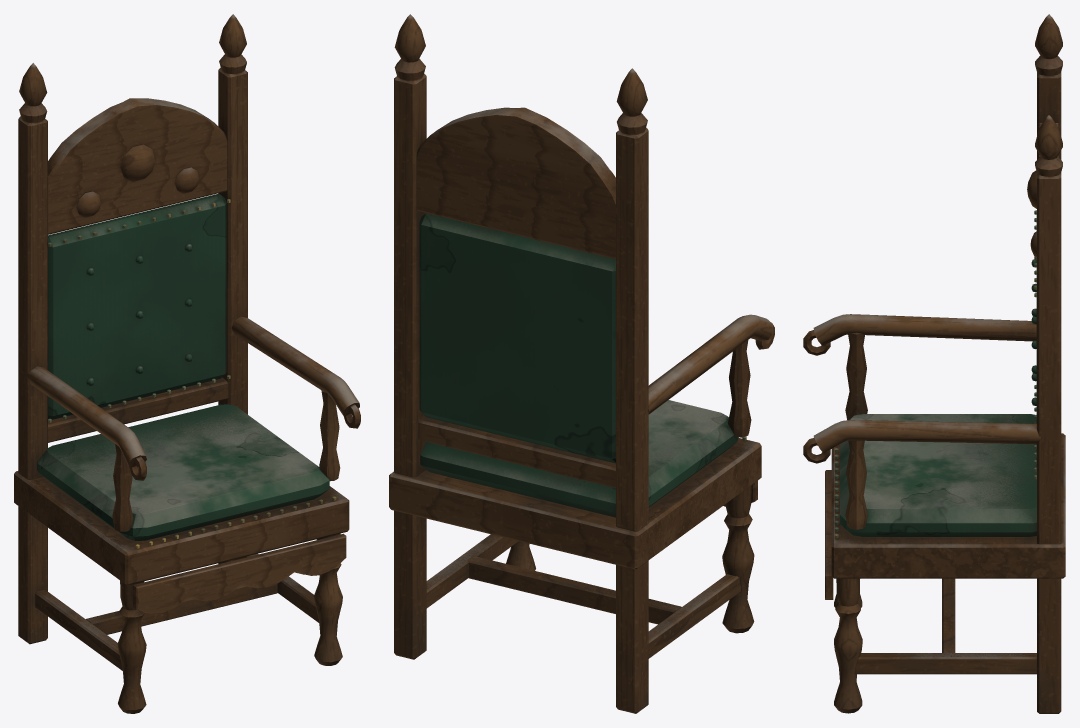
File: CarvedArmchair.fbx
3 views of the same model, side by side, from view 1: azimuth 30°, elevation 25°; view 2: azimuth 150°, elevation 25°; view 3: azimuth 270°, elevation 25° (orthographic). The views are drawn at different scales.
Parts seen in each view (by area): view 1: CarvedArmchair; view 2: CarvedArmchair; view 3: CarvedArmchair.
Boxes of the visible parts, x1=… form: CarvedArmchair: x1=14, y1=14, x2=360, y2=713; CarvedArmchair: x1=389, y1=14, x2=774, y2=713; CarvedArmchair: x1=803, y1=14, x2=1065, y2=713.
Size of the model in its own units: 1.99 by 4.71 by 1.88.
1 material, 1 textured.
